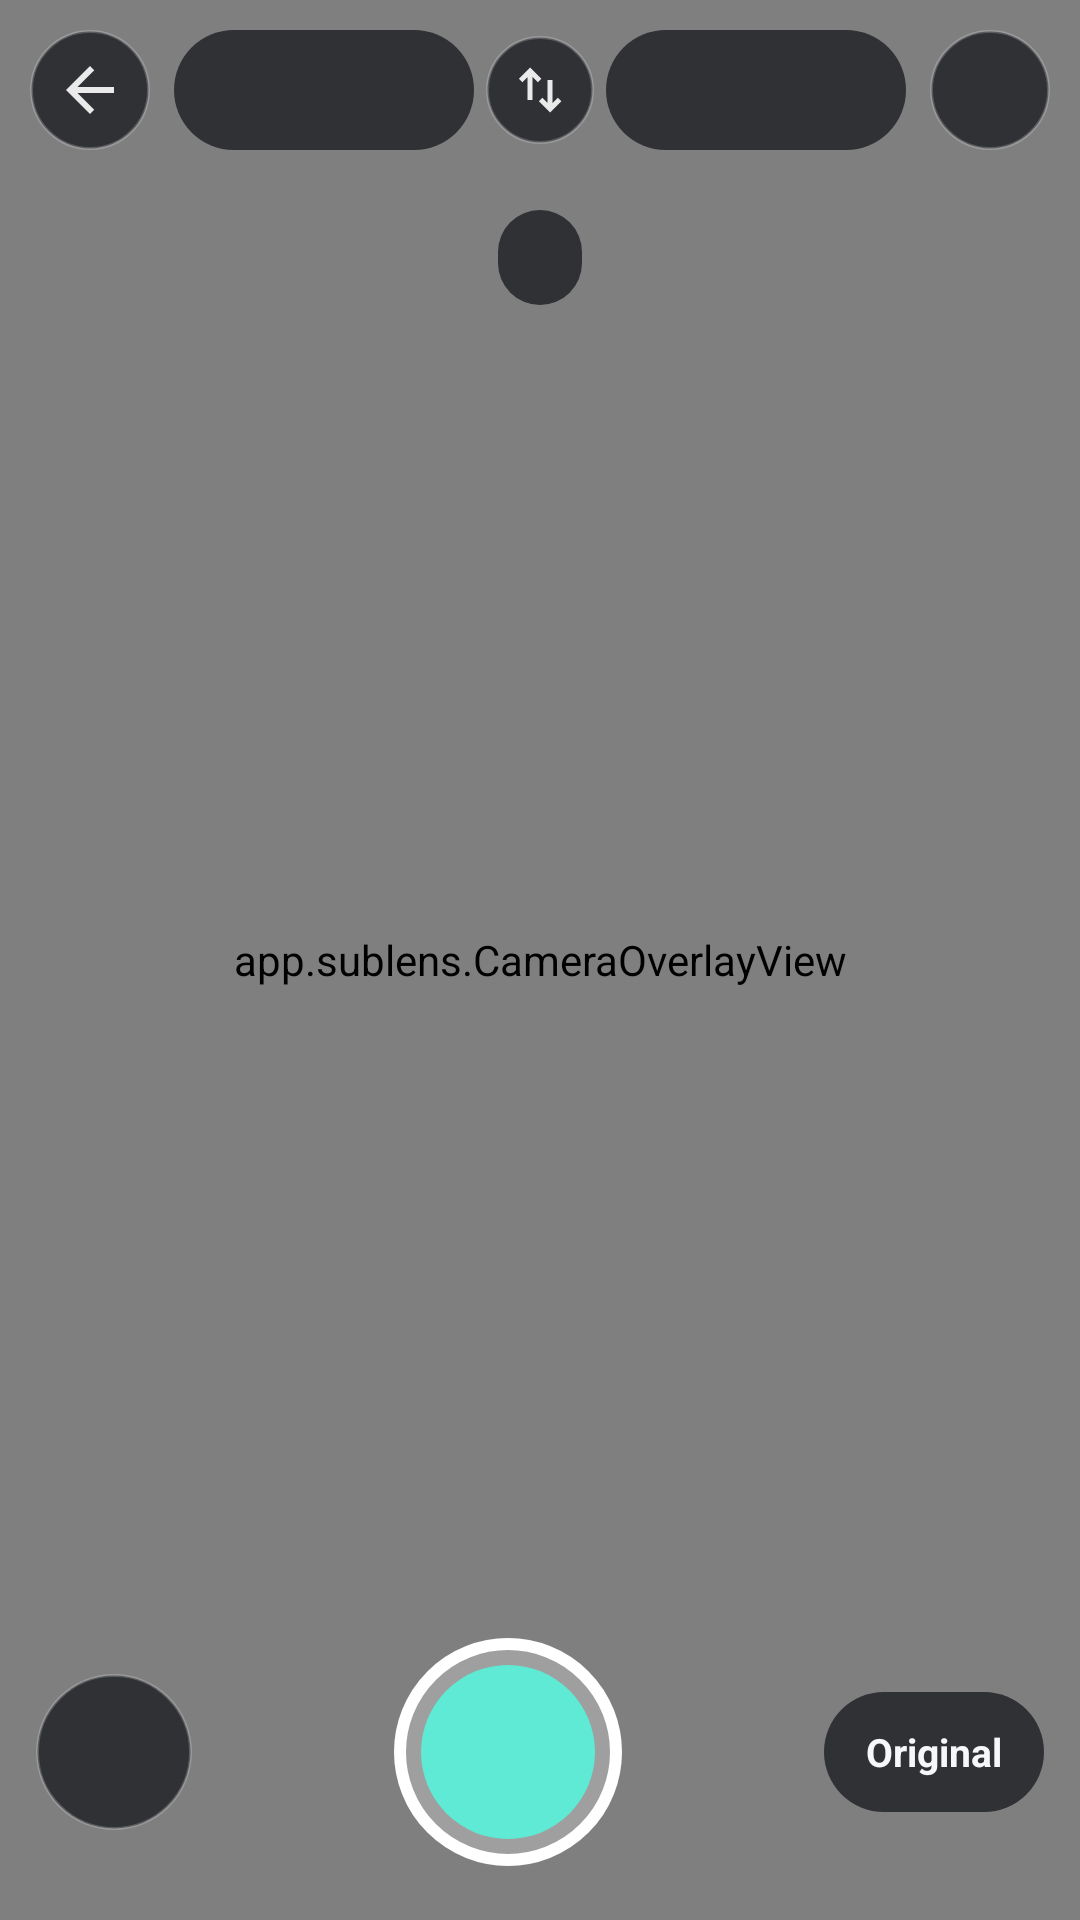

Where icons sit on this 1080w x 1920h app screen, as {"left": x1, "top": y1, "right": x2, "bottom": y2}:
Back: {"left": 30, "top": 30, "right": 150, "bottom": 150}
Swap languages: {"left": 486, "top": 36, "right": 594, "bottom": 144}
